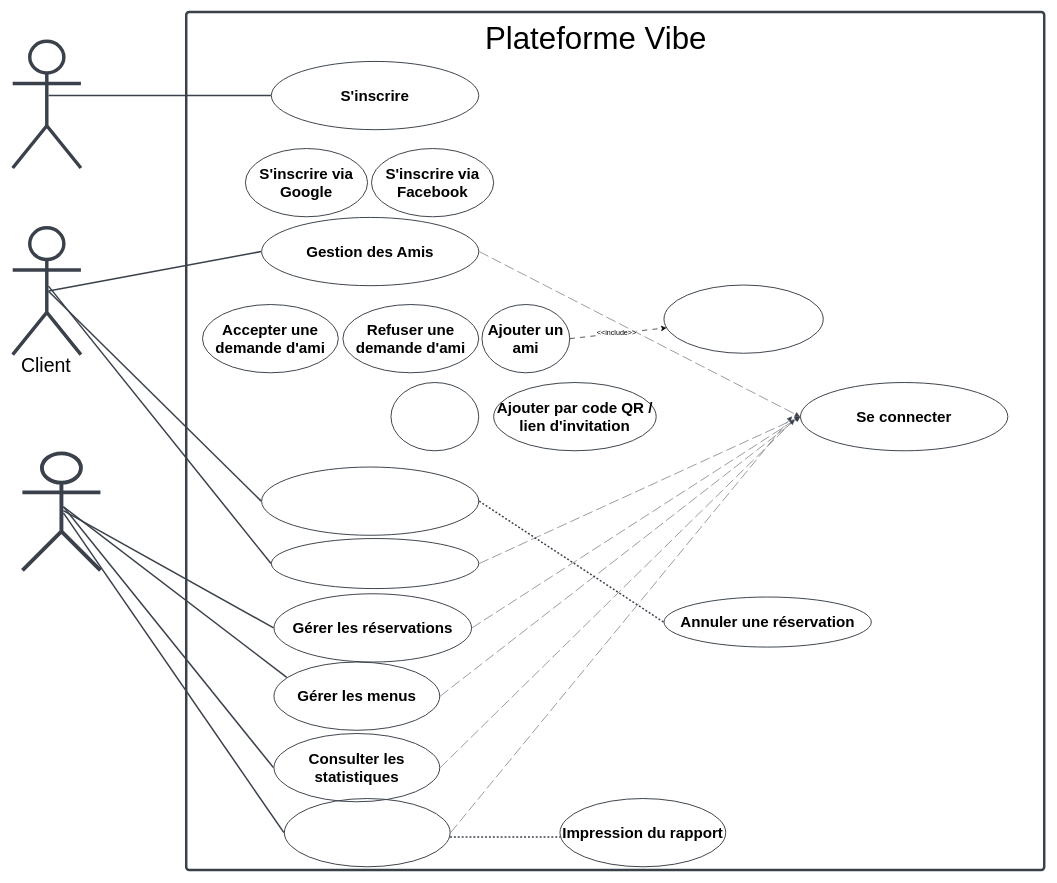
This 1057x883 diagram has some shape labels left out. The shapes that lost their labels are listed below. From the top down, each one's centre as x and y in pixels, then its label:
point 46,104: Visiteur
point 743,318: Générer QR Code / Lien d'invitation
point 434,416: Ajouter par identifiant
point 61,511: Chef(admin)
point 370,500: Messagerie Instantanée
point 375,563: Consulter les réservations
point 367,832: Générer des rapports
